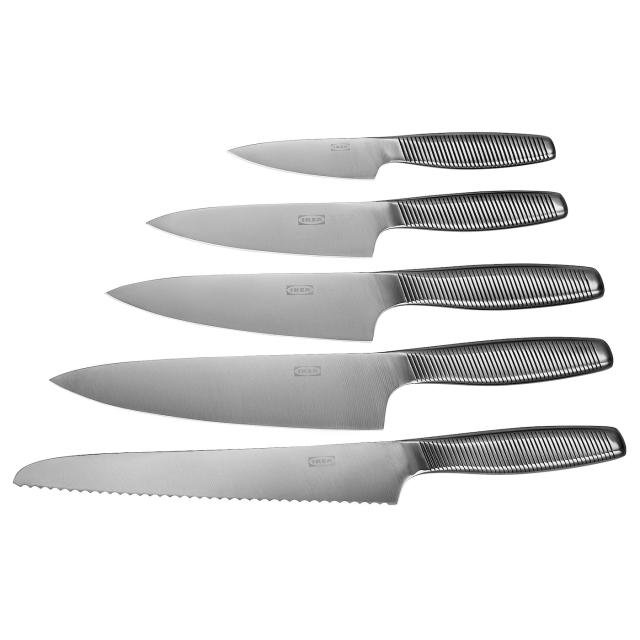Knife: (0, 422, 629, 526)
